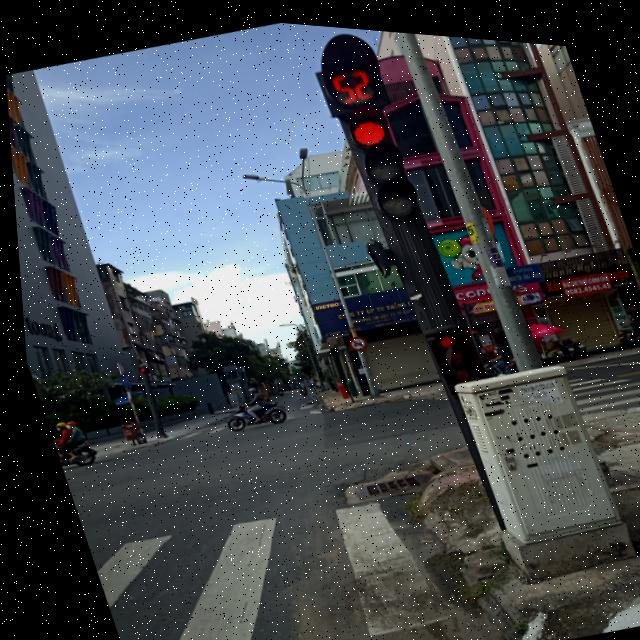Red: (331, 91, 424, 226), (416, 312, 480, 381)
